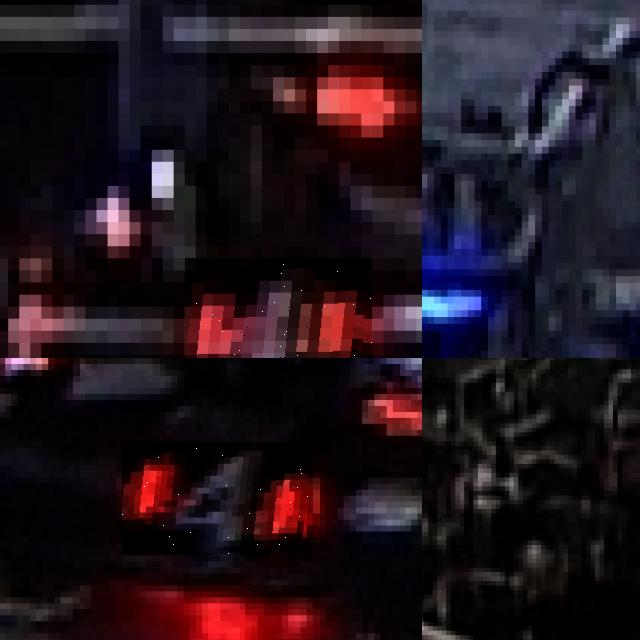R4: (122, 442, 313, 555), (184, 258, 372, 358)
